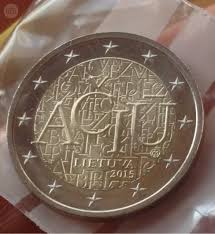eur002: (6, 32, 203, 221)
